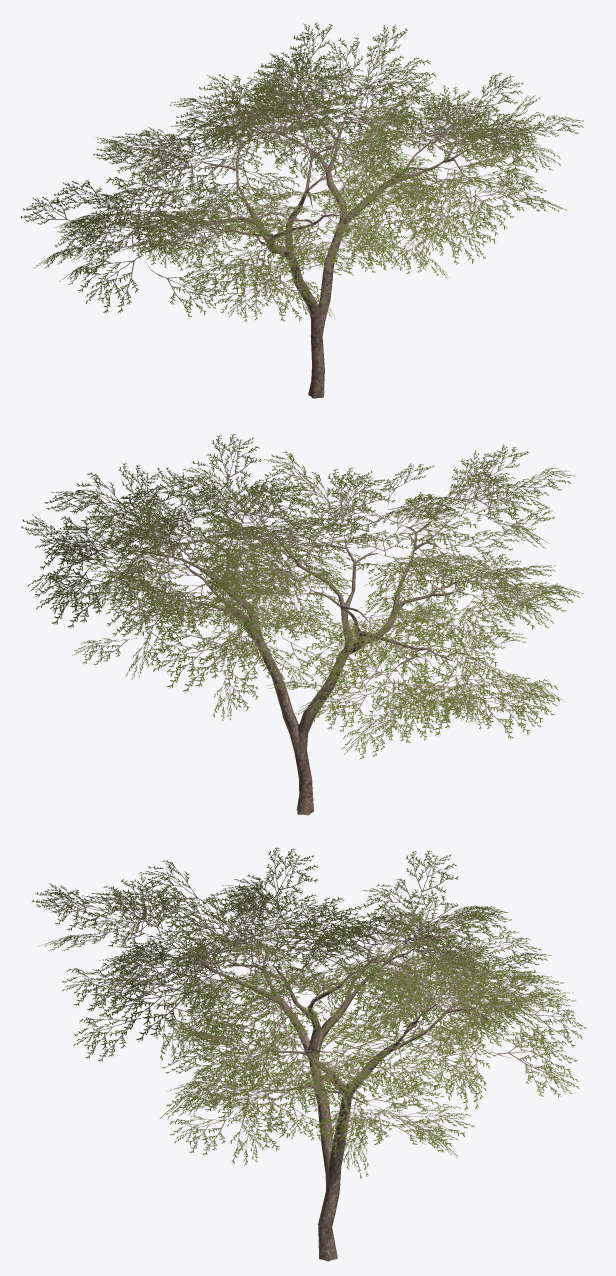
Rendered from acacia.glb.
The picture shows the model from 3 angles, top to bottom: view 1: azimuth 30°, elevation 25°; view 2: azimuth 150°, elevation 25°; view 3: azimuth 270°, elevation 25°; orthographic projection. The views are drawn at different scales.
Visible parts, largest first — view 1: acacia branch_1, bark05_0; view 2: acacia branch_1, bark05_0; view 3: acacia branch_1, bark05_0.
Boxes of the visible parts, x1,y1,x2,y2 form: acacia branch_1: [20, 22, 583, 321]; bark05_0: [83, 71, 525, 398]; acacia branch_1: [21, 433, 583, 759]; bark05_0: [83, 484, 509, 815]; acacia branch_1: [32, 847, 586, 1178]; bark05_0: [108, 904, 524, 1261].
Bounding box in the file's own units: 14 × 7.55 × 11.36.
2 materials, 2 textured.
